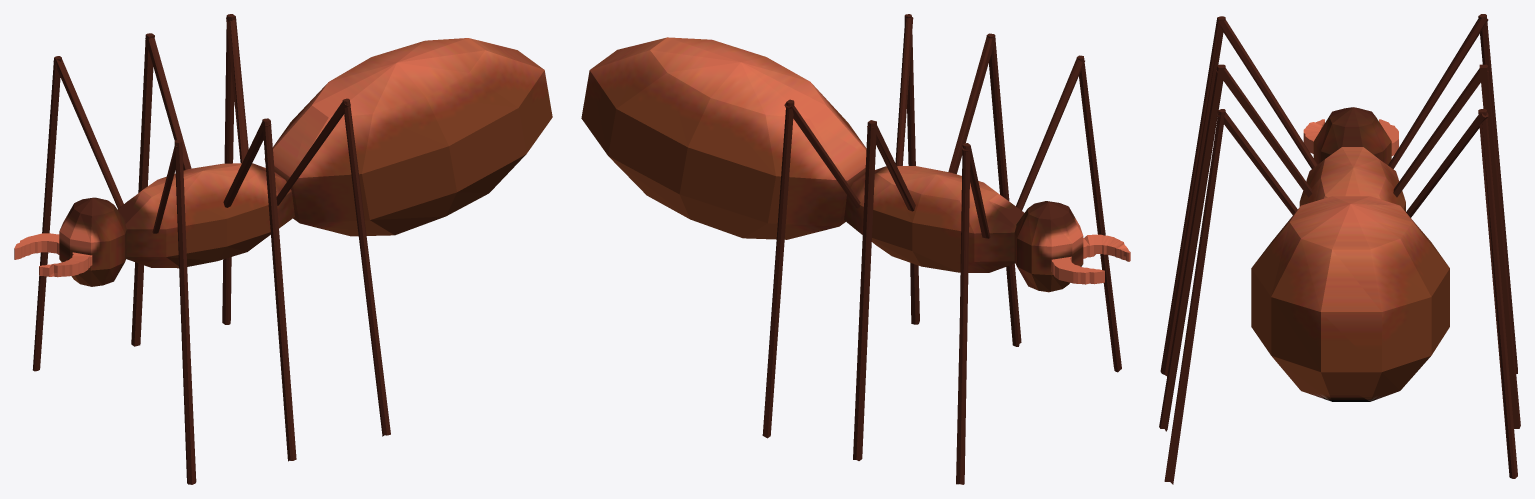
The model's file is Spider.glb.
3 renders of one model, left to right at view 1: azimuth 30°, elevation 25°; view 2: azimuth 150°, elevation 25°; view 3: azimuth 270°, elevation 25°, orthographic. The views are drawn at different scales.
Parts seen in each view (by area): view 1: Spider; view 2: Spider; view 3: Spider.
Boxes of the visible parts, x1,y1,x2,y2 form: Spider: [14, 14, 552, 484]; Spider: [581, 14, 1130, 484]; Spider: [1159, 14, 1520, 484].
Bounding box in the file's own units: 1103 × 665 × 599.
1 material, 1 textured.
